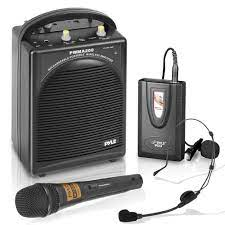microphone: (3, 179, 156, 220)
speaker: (3, 5, 134, 174)
